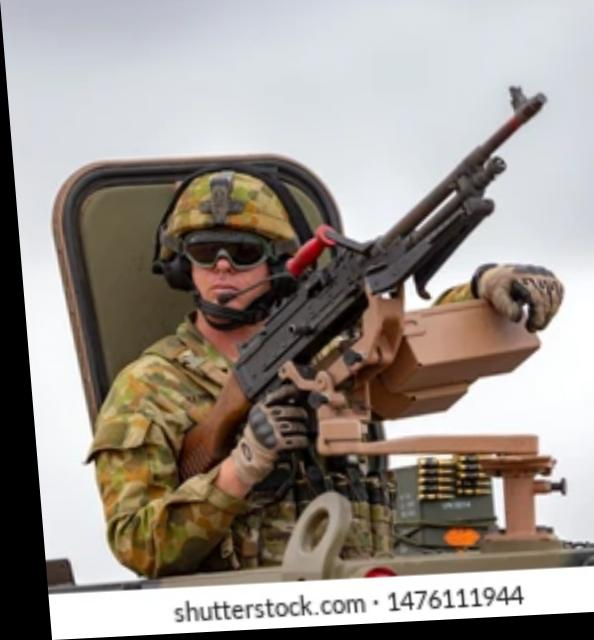other: (86, 145, 366, 575)
